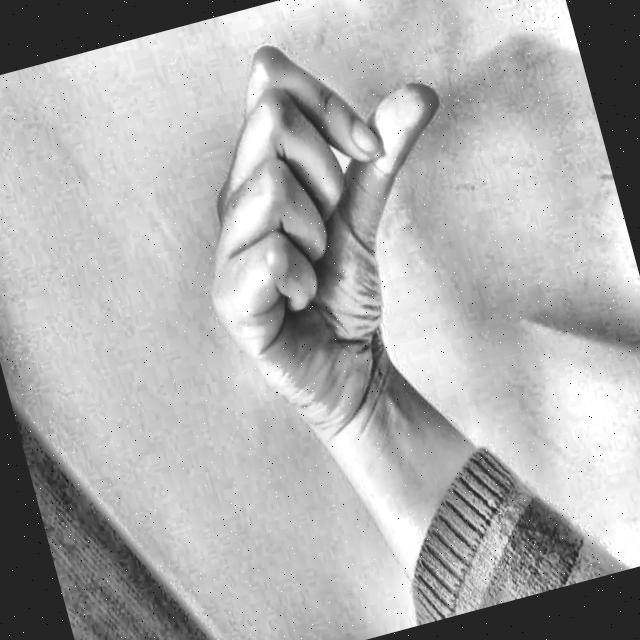Ay: (127, 0, 527, 454)
